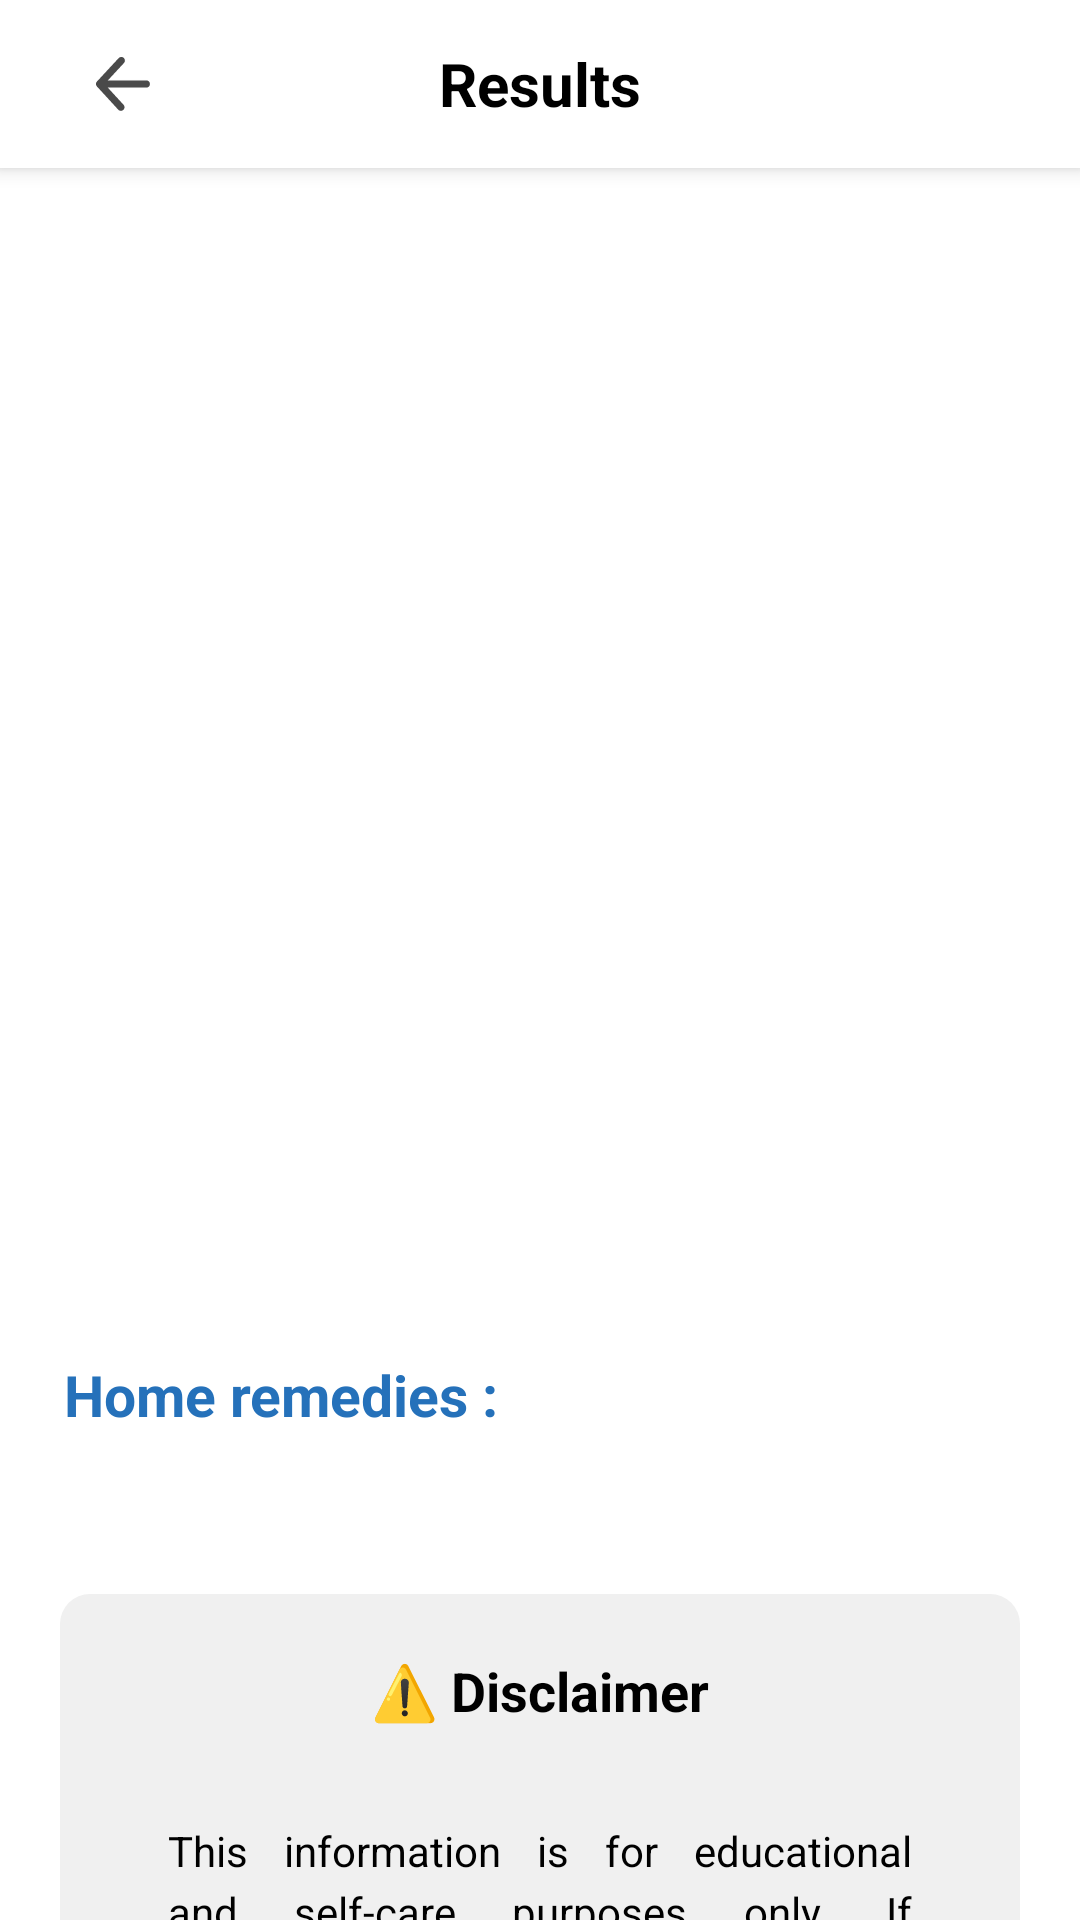

Where to tap for icons on this 1080px×1920px app screen, as (x,y):
Back: (123,84)
